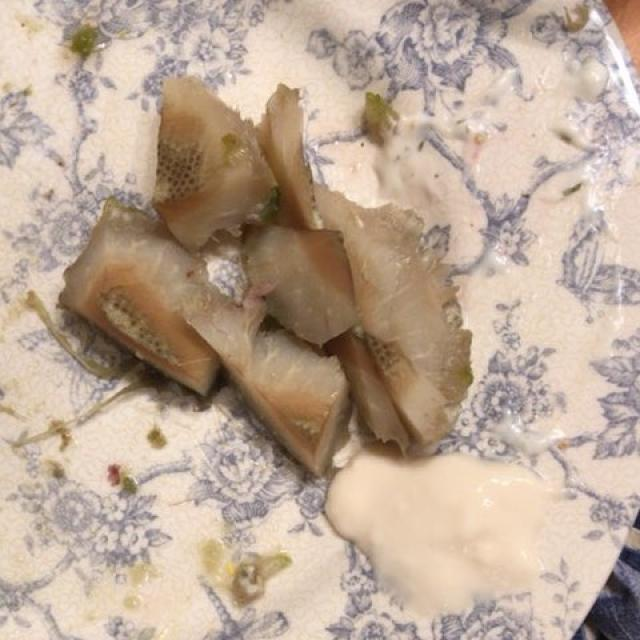artichoke: (65, 77, 455, 475)
